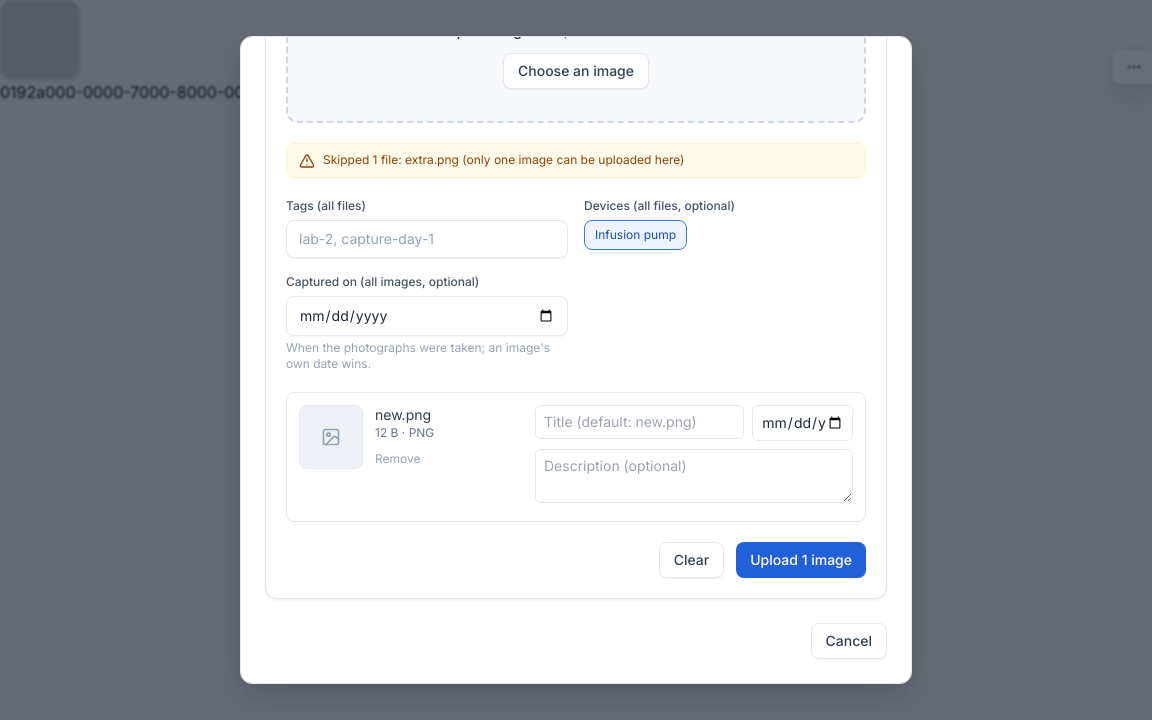
Test case: DeviceProfilePicture › uploads a new picture through the gallery uploader and selects it once it is ready
This screenshot has width=1152, height=720.
Earlier steps of the test are not shown.
(page scrolled)
Check: the text "extra.png (only one image can be uploaded here)" is shown, box top-left (405, 152), bottom-right (684, 167)
Click the button "Upload 1 image".
click(801, 560)  # box top-left (736, 542), bottom-right (866, 578)
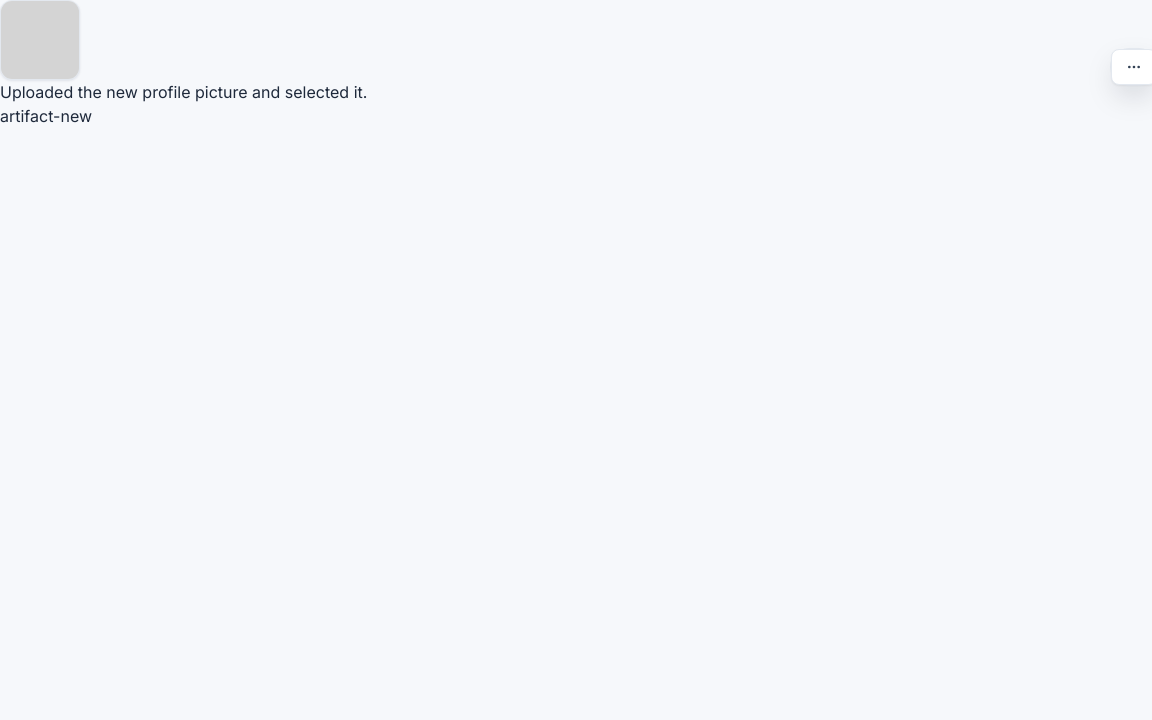
Check: the text "Uploaded the new profile picture and selected it." is shown, box top-left (0, 82), bottom-right (367, 102)
Check: the text with test id "device-picture" reads "artifact-new", box top-left (0, 106), bottom-right (92, 126)
